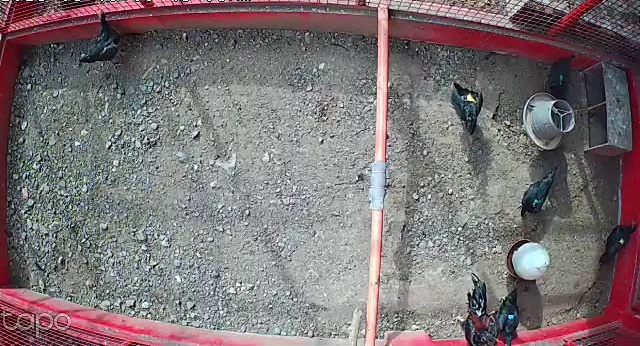Chicken: (73, 10, 133, 72), (448, 78, 486, 142), (597, 216, 638, 265), (518, 166, 557, 217), (494, 284, 525, 346)
Rooster: (446, 271, 496, 346)
Saddle_Color_Blue: (506, 313, 515, 321)
Saddle_Color_Yellow: (465, 93, 479, 104)
